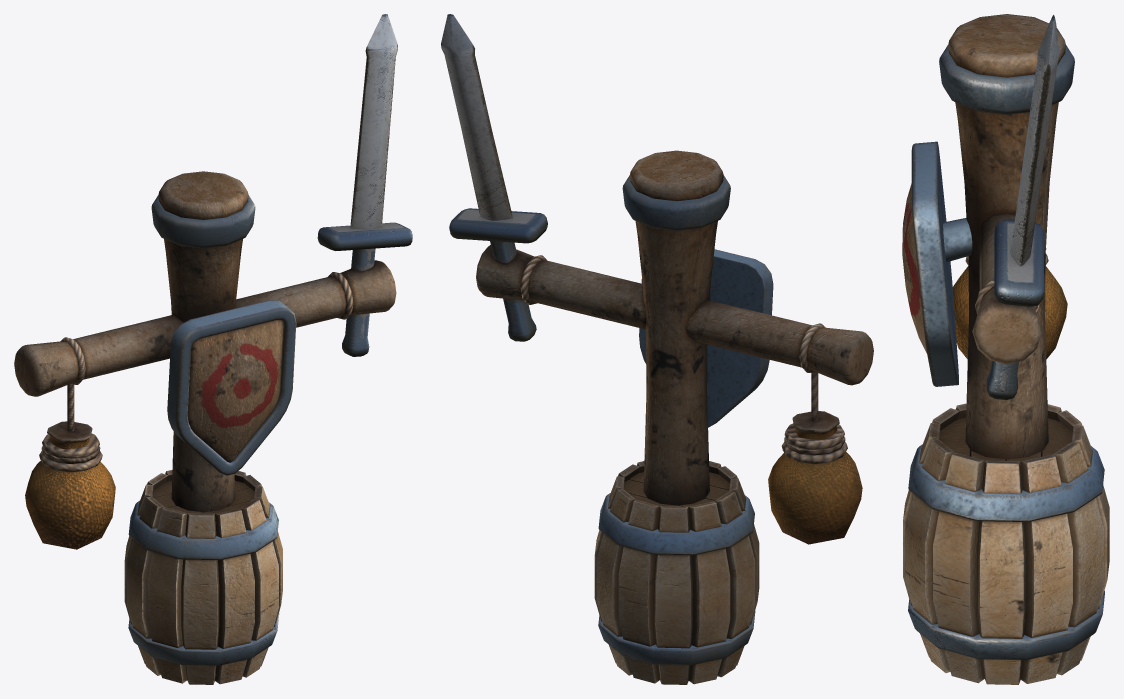
Rendered from Obstacle-20.fbx.
The picture shows the model from 3 angles, left to right: view 1: azimuth 30°, elevation 25°; view 2: azimuth 150°, elevation 25°; view 3: azimuth 270°, elevation 25°; orthographic projection. The views are drawn at different scales.
Parts seen in each view (by area): view 1: Obstacle-20; view 2: Obstacle-20; view 3: Obstacle-20.
Part boxes in pixels (x1,y1,x2,y2): Obstacle-20: (14, 14, 412, 684); Obstacle-20: (441, 14, 873, 684); Obstacle-20: (902, 14, 1109, 684).
Bounding box in the file's own units: 1.19 × 1.71 × 0.4207.
